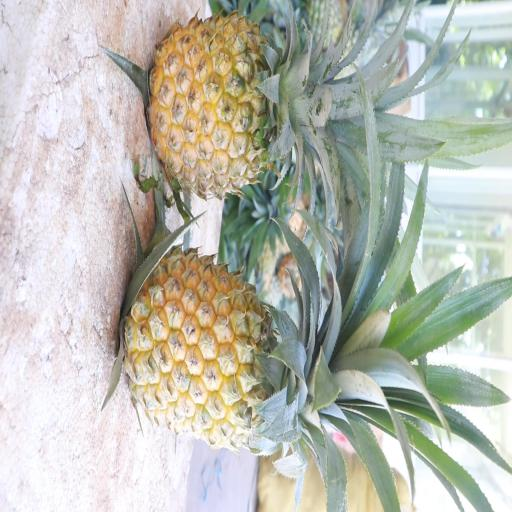Pineapple - v8 v1: (120, 243, 372, 453), (144, 7, 350, 205)
